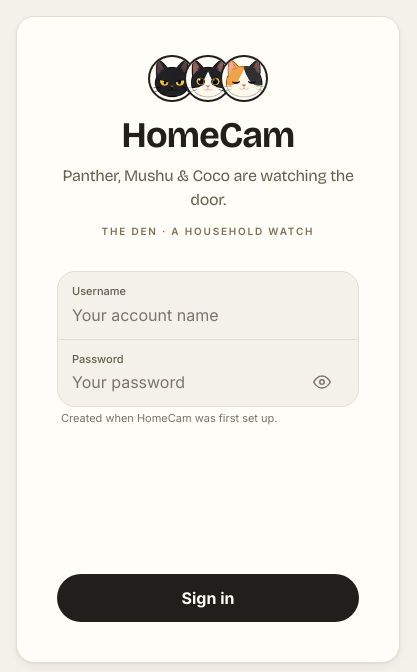
Scenario: Login page › shows "Invalid username or password" on a 401
Type "alice" into the field labelled "Username" at (208, 315), box [72,303,344,327]
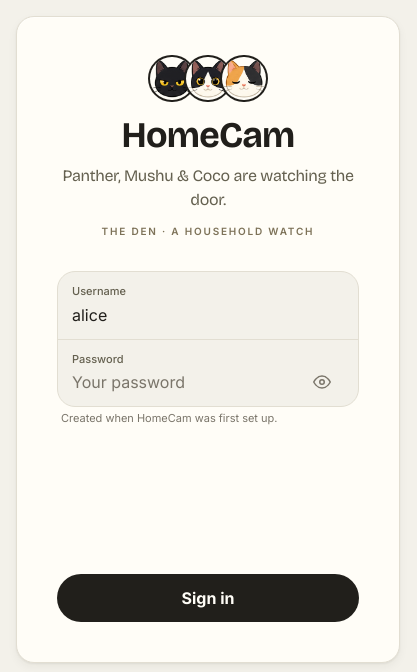
Type "wrong" into the password field labelled "Password" at (208, 382), box [72,370,344,394]
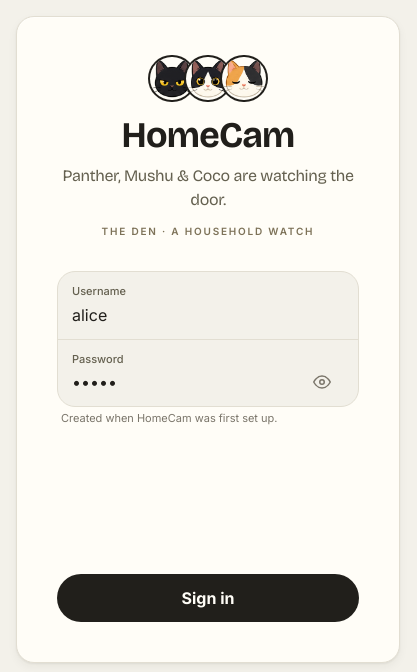
Click the button "Sign in" at (208, 598), box [57,574,359,622]
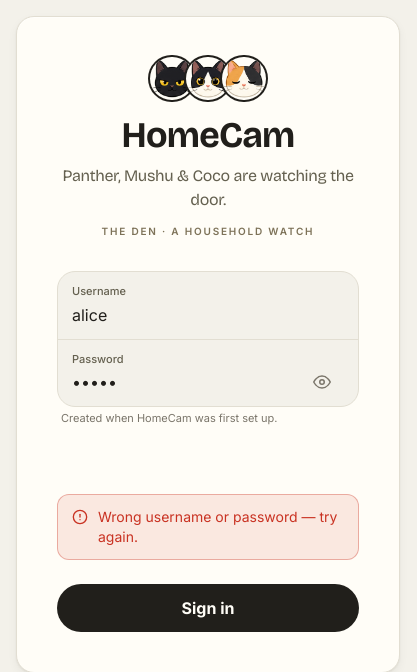
Expected: the message "Wrong username or password — try again." is shown, [57,494,359,560]
